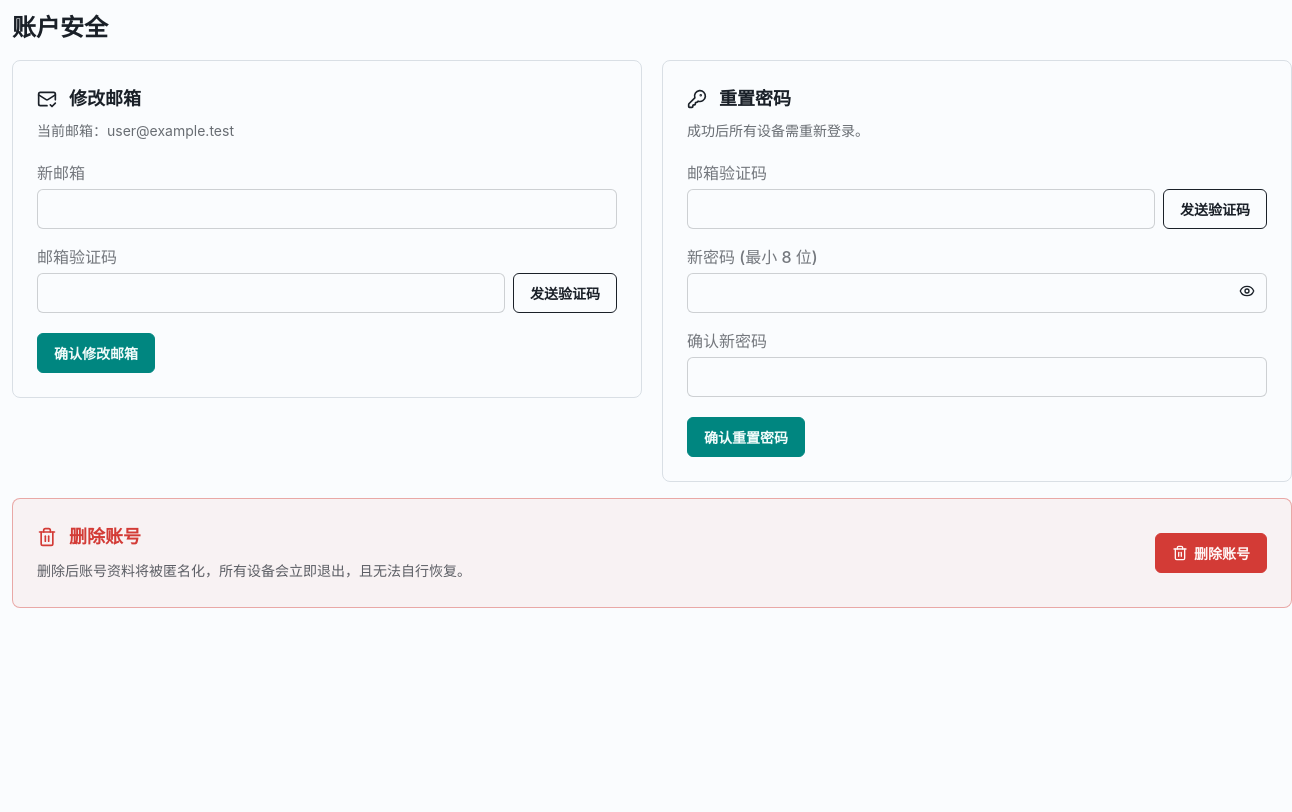
AccountSecurityPanel › validates password confirmation before resetting
Type "123456" into the field labelled "邮箱验证码" below "成功后所有设备需重新登录。". click: (921,209)
box: [687,189,1155,229]
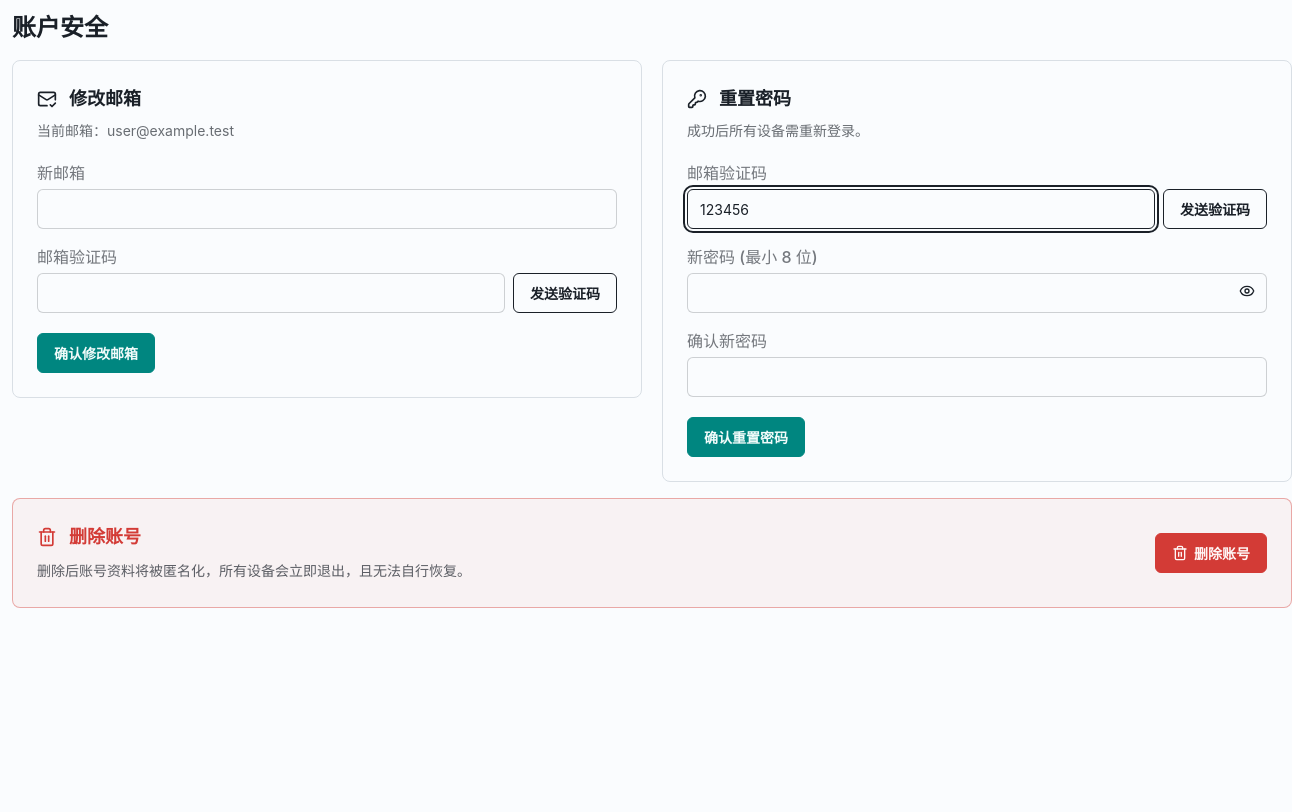
Type "new-password" into the password field labelled "新密码 (最小 8 位)". click: (977,293)
box: [687,273,1267,313]
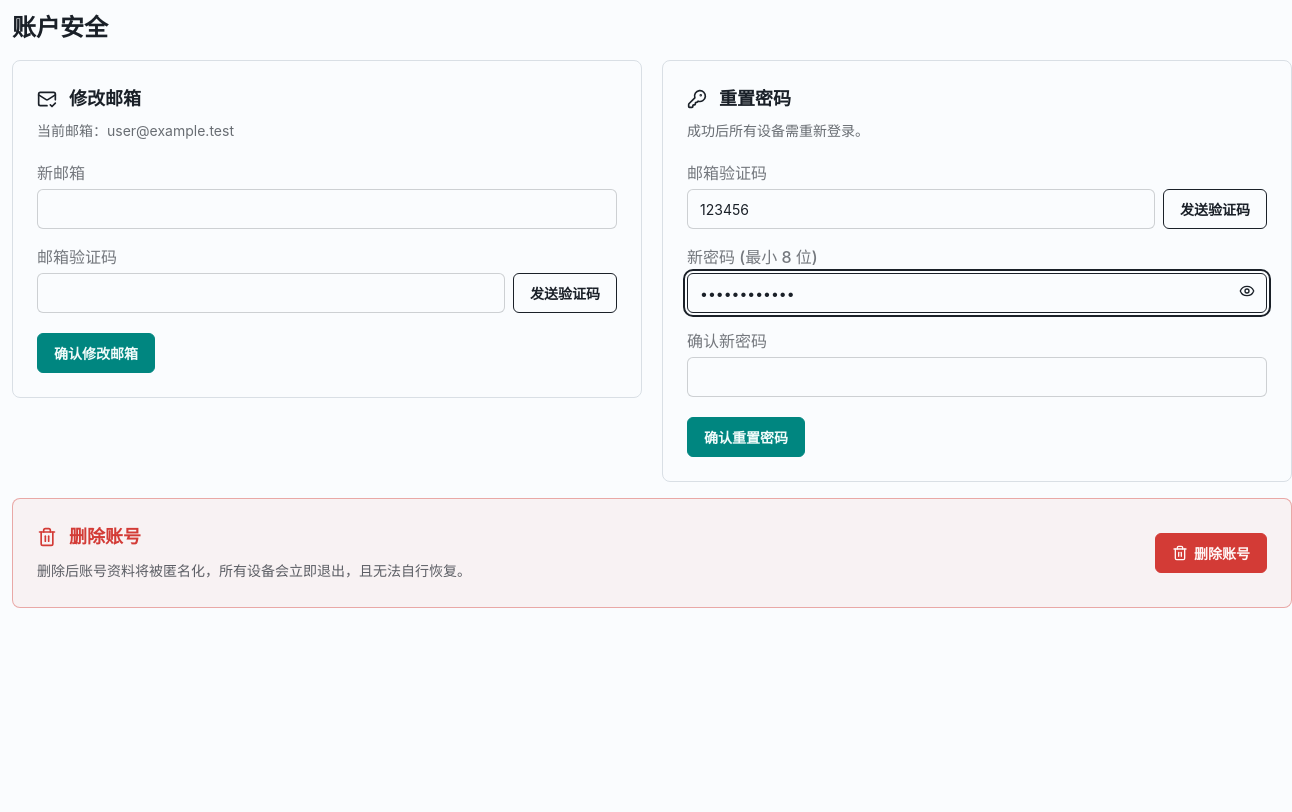
Type "different-password" into the password field labelled "确认新密码". click: (977,377)
box: [687,357,1267,397]
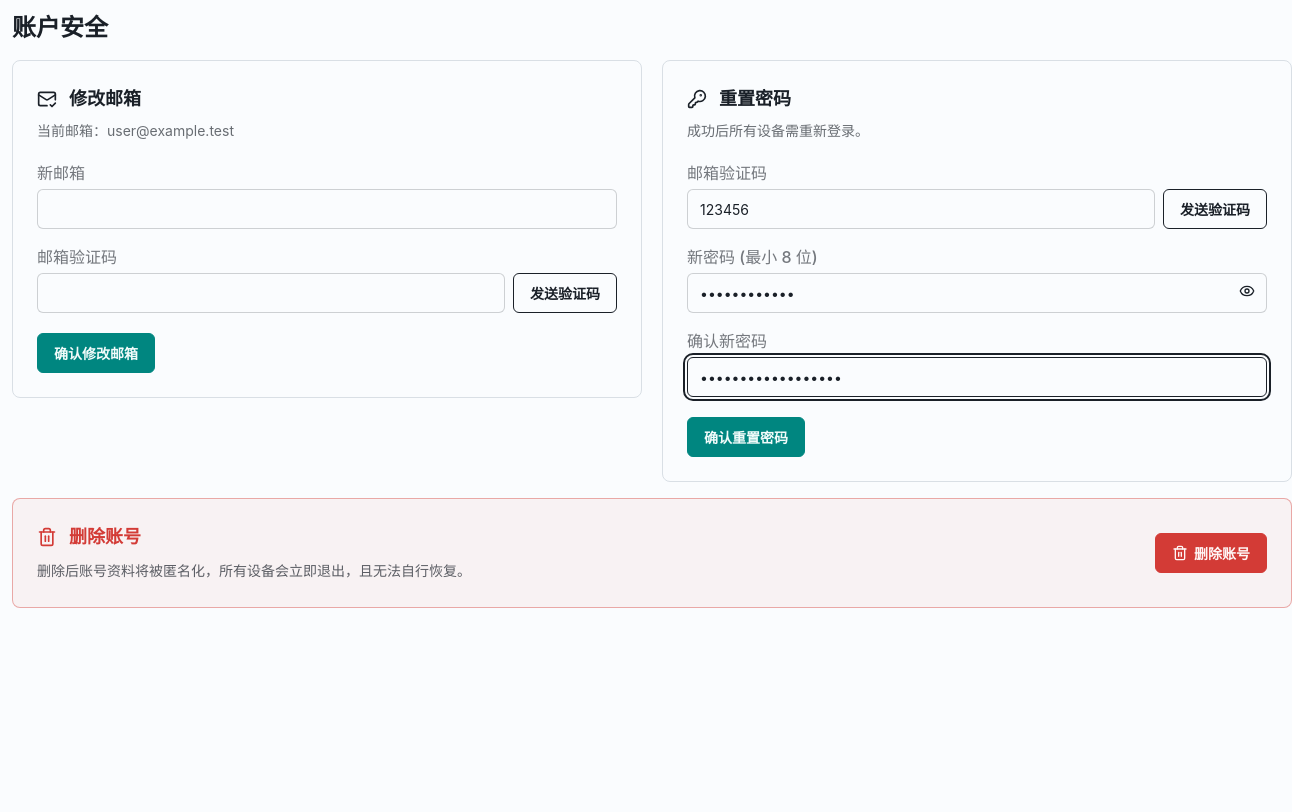
Click the button "确认重置密码". click: (746,437)
box: [687,417,805,457]
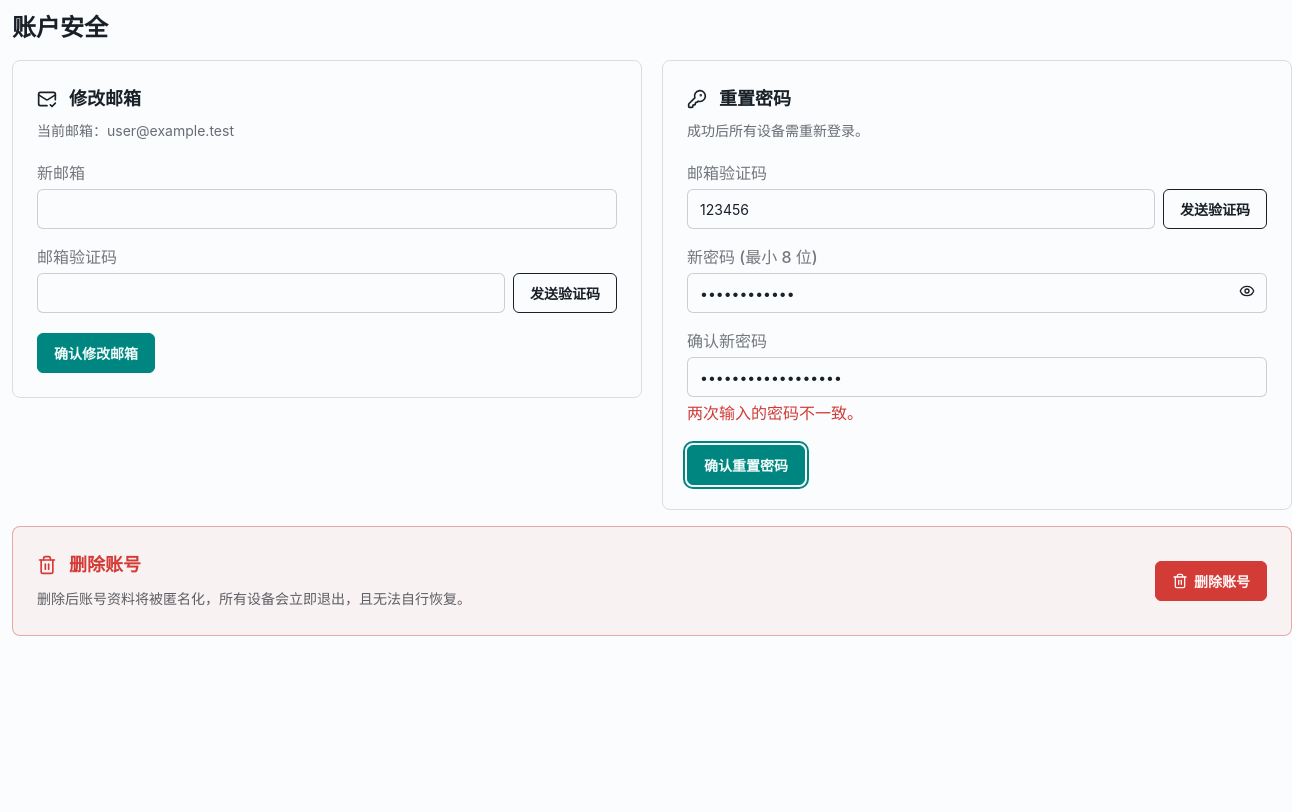
Result: the text "两次输入的密码不一致。" is shown at [687,397,863,425]
